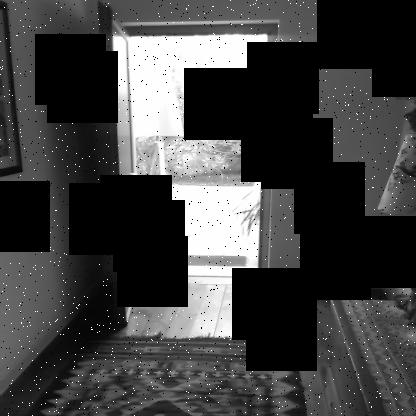Porte: (94, 0, 284, 326)
